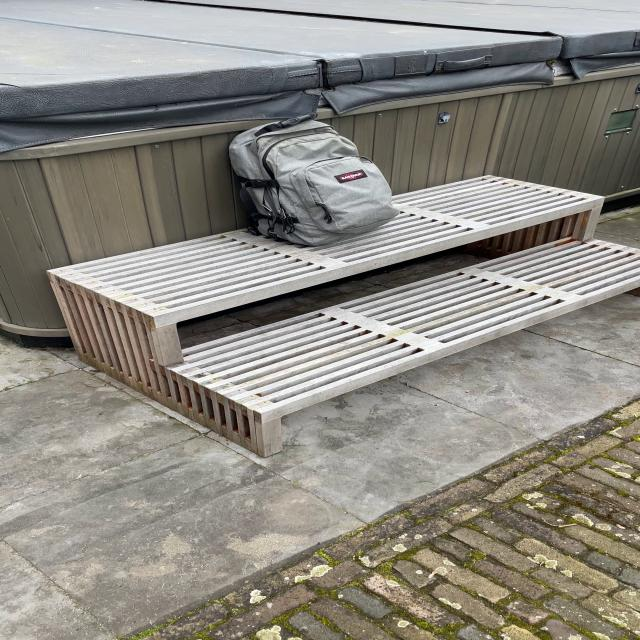backpack: (222, 114, 404, 249)
